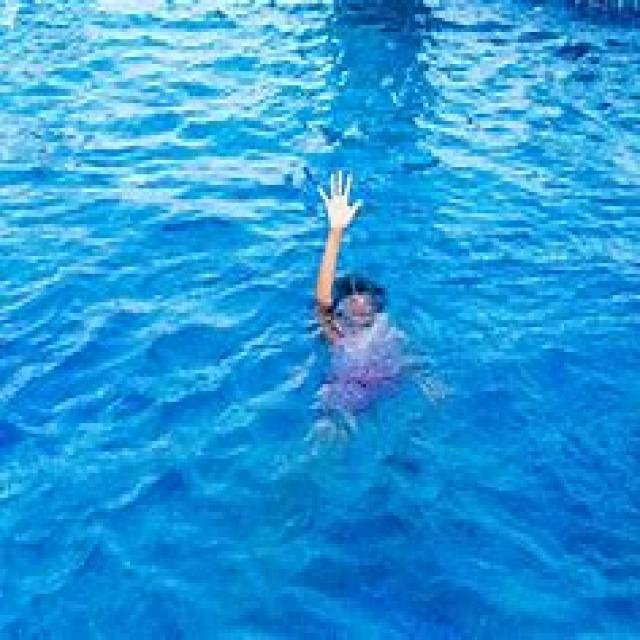Drowning: (278, 160, 416, 438)
